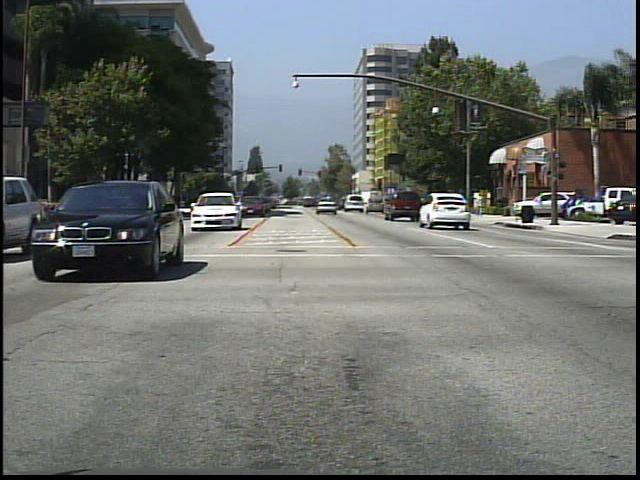person: (473, 190, 485, 218)
